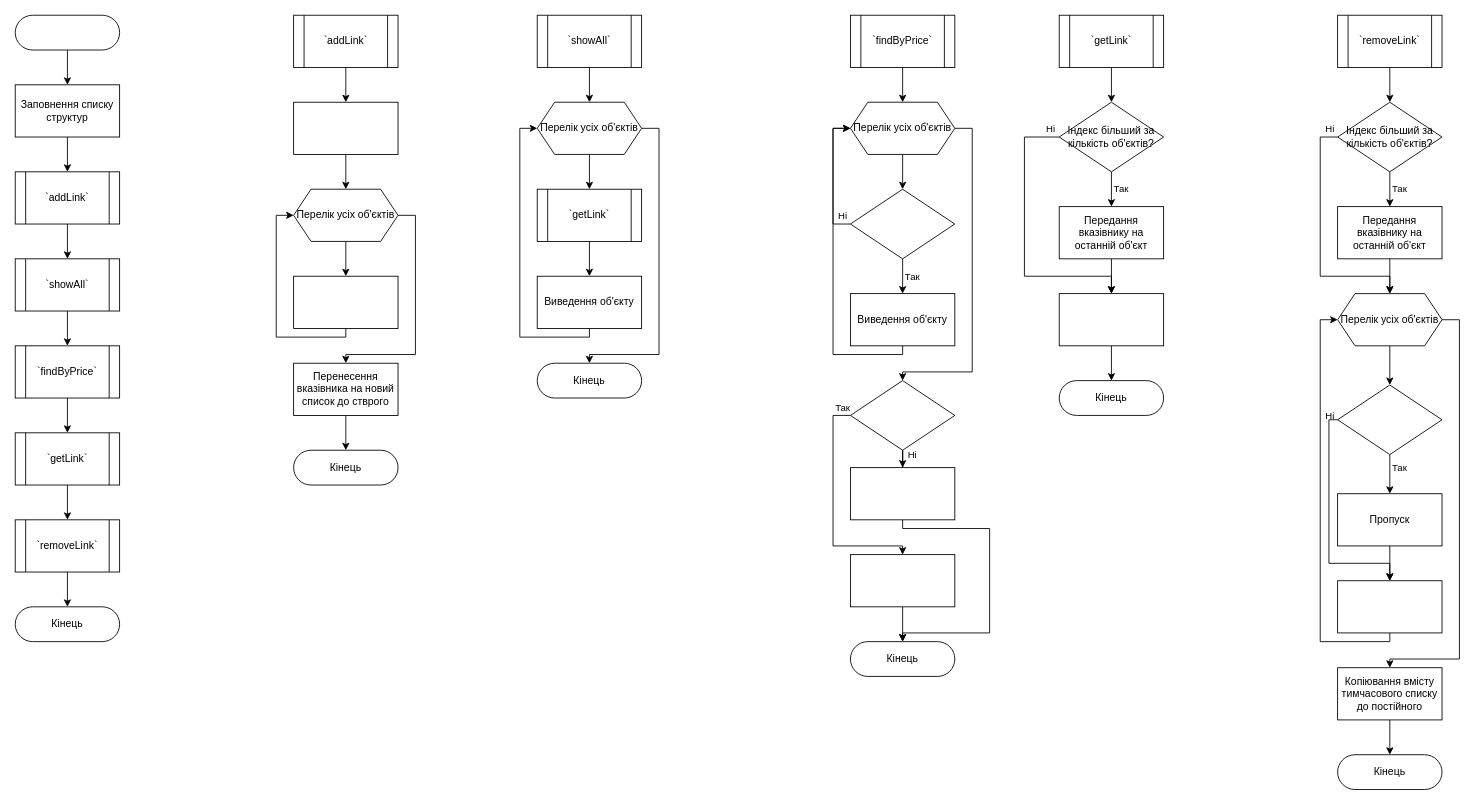
Image size: 1482x805. Some labels were removed from this diagram. Here are the shapes that lost their labels. From the top down, the box of each, then its label:
(14, 14, 120, 50): `main`
(293, 101, 398, 154): Виділення пам'яті для нового списку
(850, 188, 955, 259): Ціна об'єкту менша за максимальну?
(293, 275, 398, 328): Копіювання ою'єктів до нового списку
(1058, 293, 1164, 346): Передання об'єкту за індексом
(850, 380, 955, 450): Знайдено необхідні об'єкти?
(1337, 384, 1442, 455): Індекс є індексом єлємєнту для видалення?
(850, 467, 955, 520): Виведення повідомлення про відсутність
(850, 554, 955, 607): Передання необхідного об'єкту
(1337, 580, 1442, 633): Копіювання об'єктів до тимчасового списку
